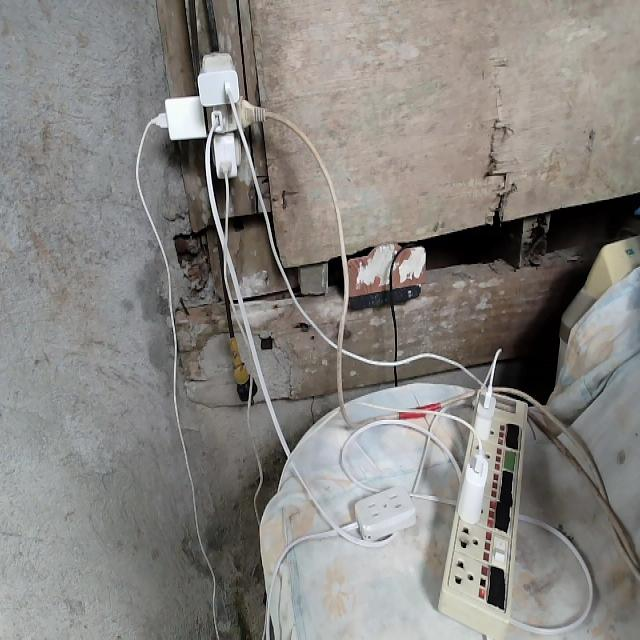-: (156, 50, 275, 186)
